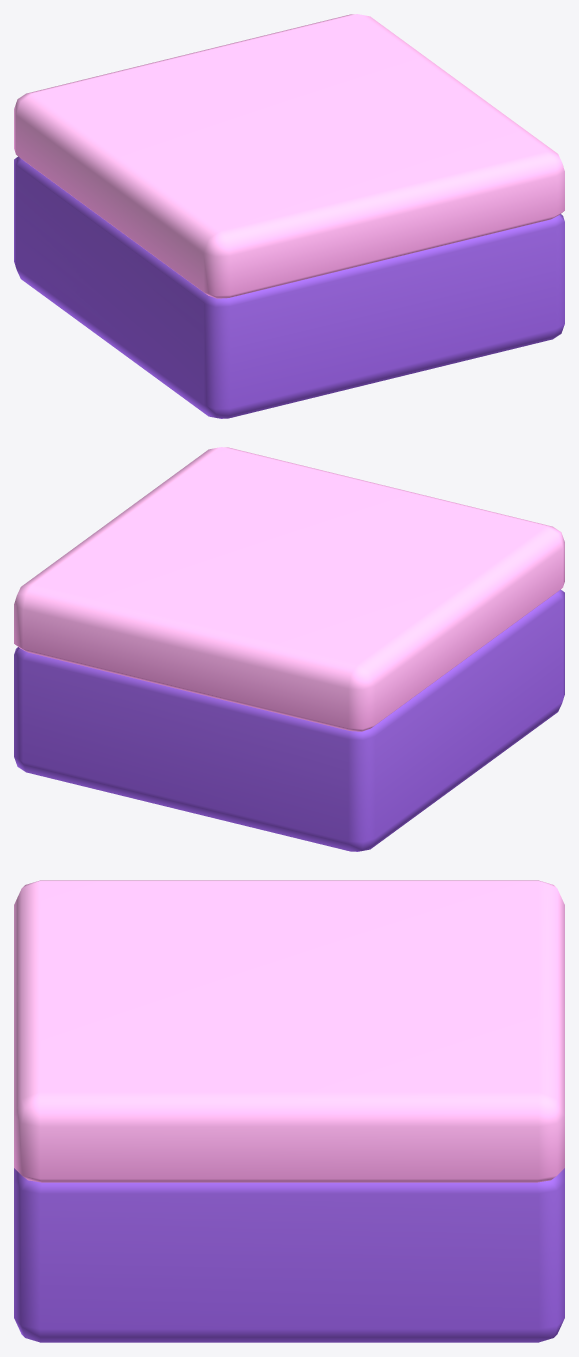
File: Platform_11.glb
3 views of the same model, one above another, from view 1: azimuth 30°, elevation 25°; view 2: azimuth 150°, elevation 25°; view 3: azimuth 270°, elevation 25° (orthographic). The views are drawn at different scales.
Visible parts, largest first — view 1: Platform_11; view 2: Platform_11; view 3: Platform_11.
Boxes of the visible parts, x1,y1,x2,y2 form: Platform_11: (14,14,564,418); Platform_11: (14,447,564,851); Platform_11: (14,880,564,1342).
Size of the model in its own units: 6 by 3 by 6.
1 material, 1 textured.
